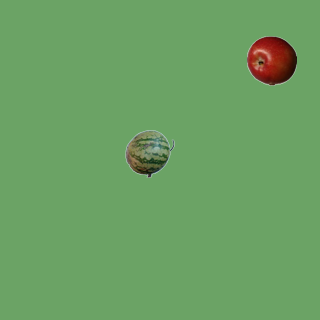Apple Braeburn: (246, 35, 296, 85)
Watermelon: (124, 128, 174, 178)
